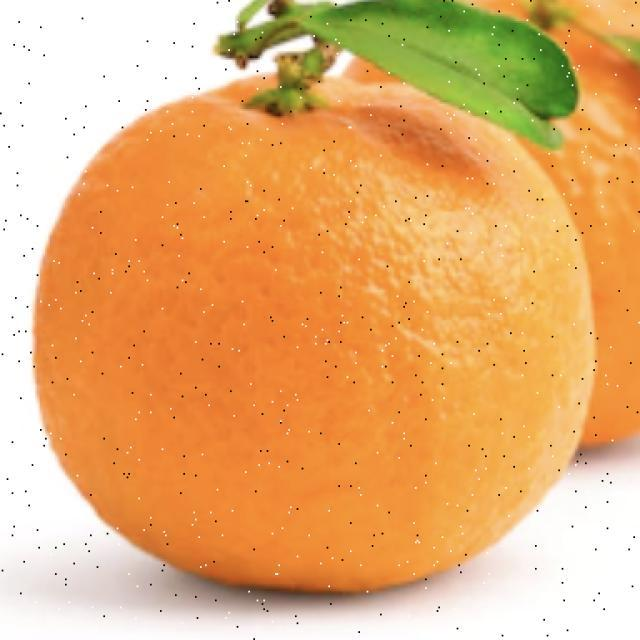Orange: (32, 58, 598, 594), (340, 0, 639, 449)
